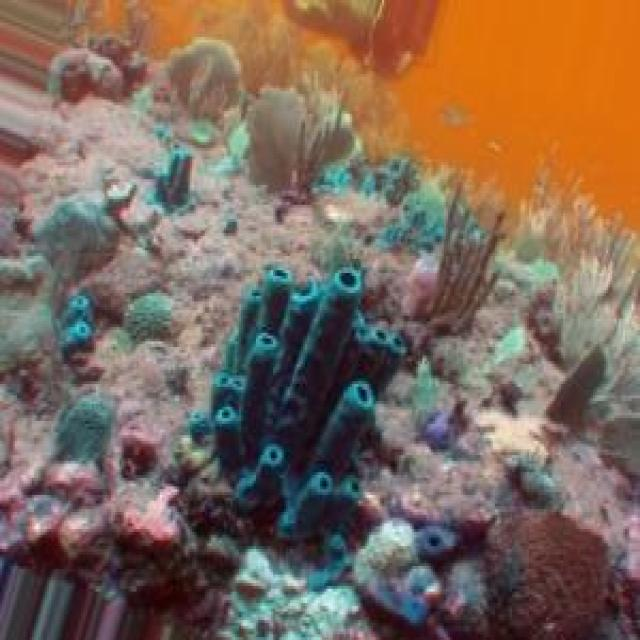Bleached: (517, 180, 640, 416)
Healthy: (195, 266, 406, 541), (423, 502, 618, 640), (116, 44, 251, 175), (413, 194, 498, 339), (138, 129, 202, 220), (61, 294, 103, 382)
